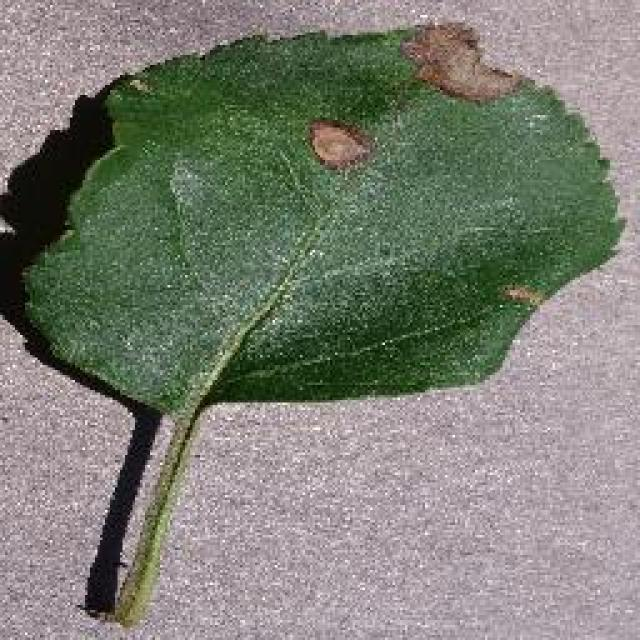apple black rot: (0, 17, 625, 625)
